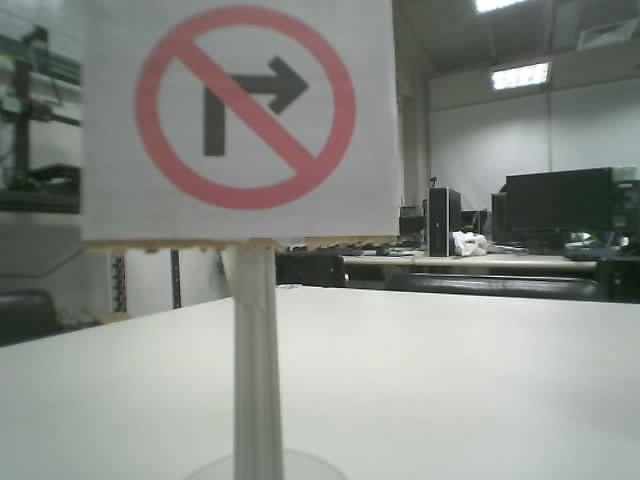R-4b_proibido-direita: (132, 5, 357, 211)
